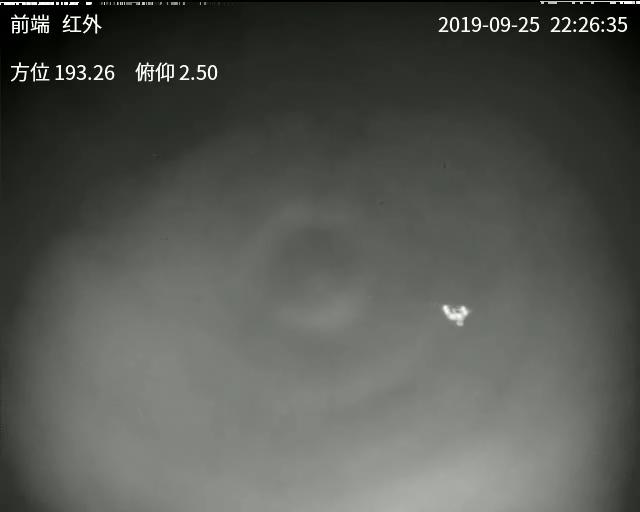uav: (440, 298, 474, 330)
